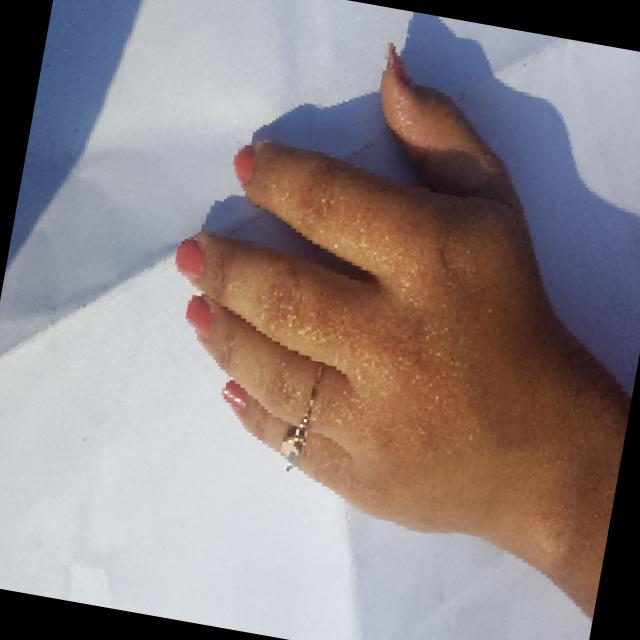Nail: (174, 238, 203, 279), (185, 295, 211, 339), (232, 145, 254, 185), (221, 379, 246, 413), (387, 44, 409, 82)
